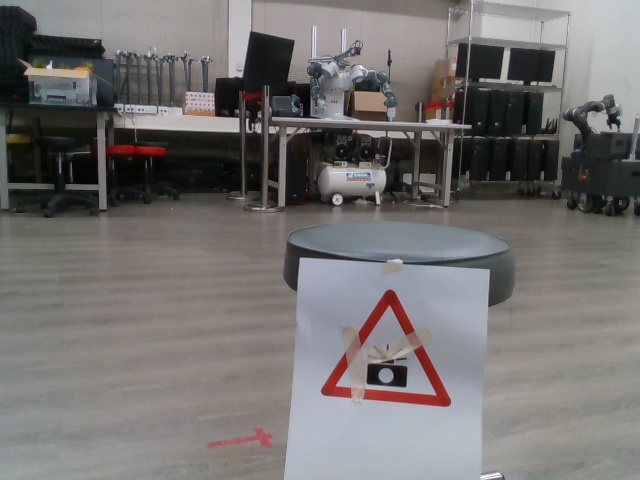camera: (319, 285, 460, 414)
